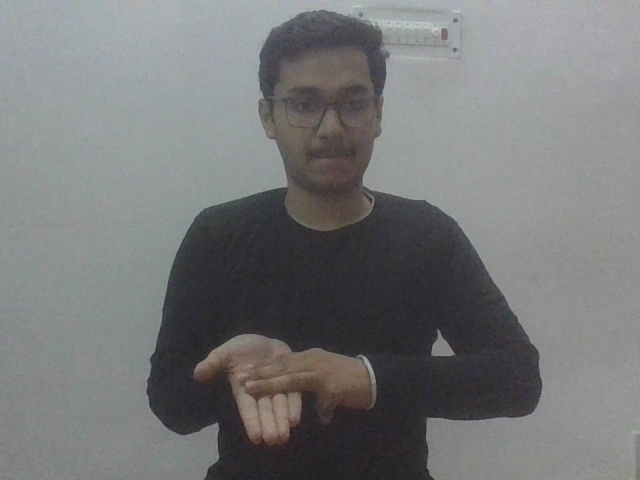M: (187, 322, 375, 447)
